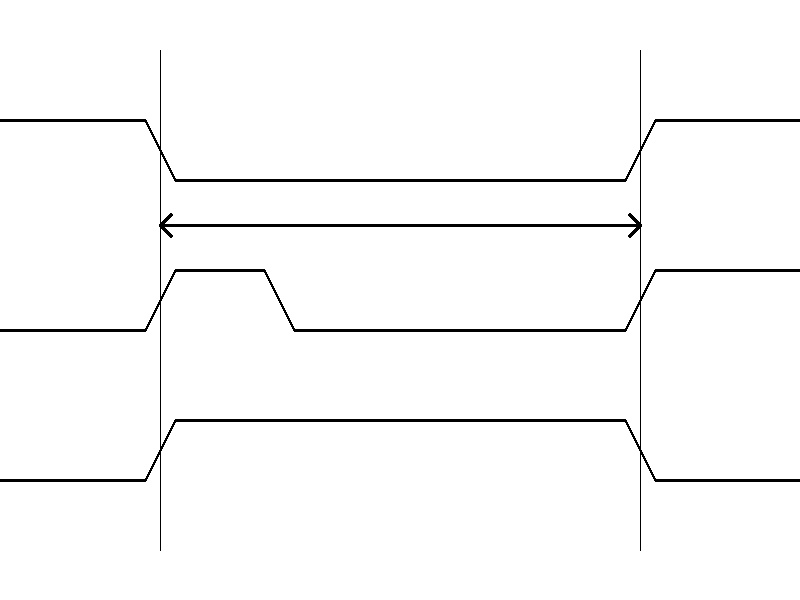double_arrow: (160, 210, 640, 240)
